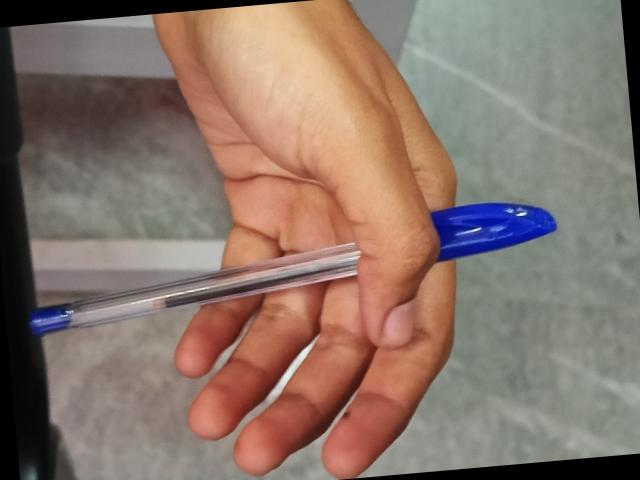PEN: (14, 192, 563, 343)
